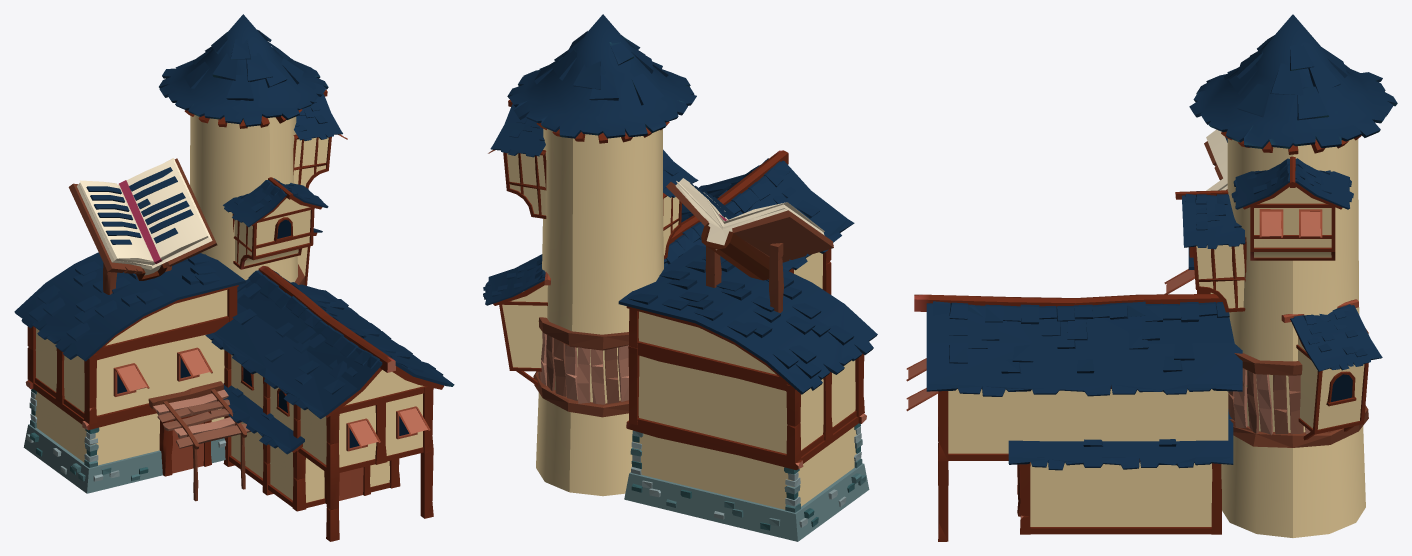
File: SM_Library_LODS_Group.fbx
3 renders of one model, left to right at view 1: azimuth 30°, elevation 25°; view 2: azimuth 150°, elevation 25°; view 3: azimuth 270°, elevation 25°, orthographic. The views are drawn at different scales.
Parts seen in each view (by area): view 1: SM_Library_LOD0; view 2: SM_Library_LOD0; view 3: SM_Library_LOD0.
Boxes of the visible parts, bbox=[...] form: SM_Library_LOD0: bbox=[14, 14, 454, 541]; SM_Library_LOD0: bbox=[483, 14, 877, 541]; SM_Library_LOD0: bbox=[906, 14, 1397, 541].
Bounding box in the file's own units: 601 × 699 × 785.
